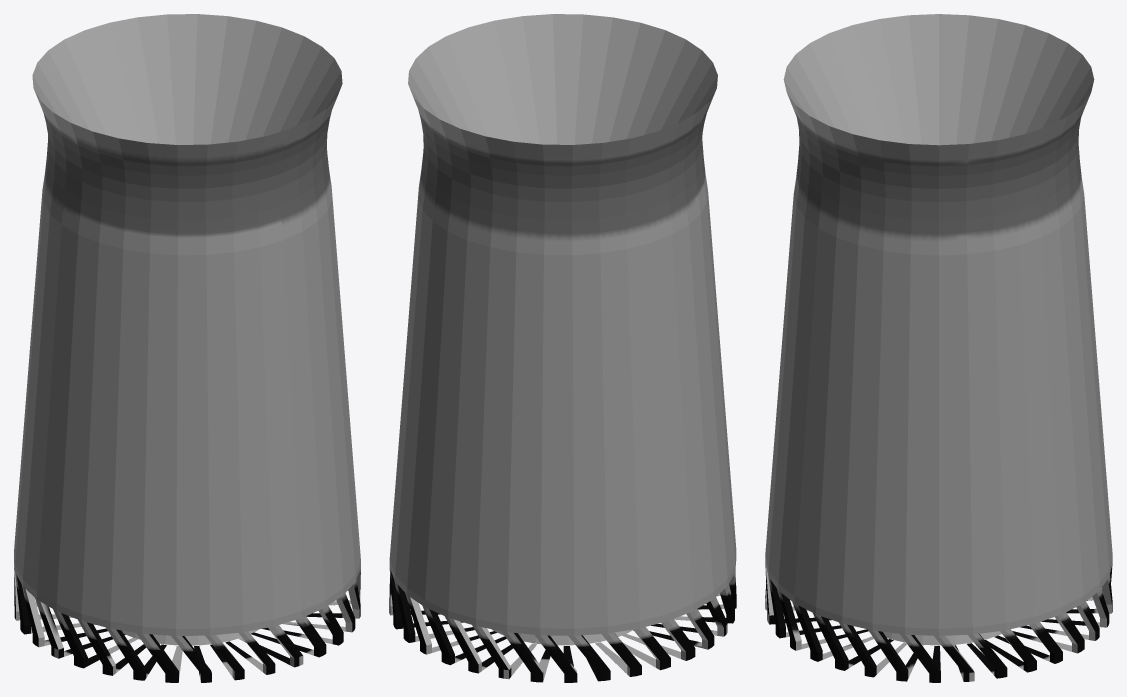
Rendered from chimney.fbx.
3 renders of one model, left to right at view 1: azimuth 30°, elevation 25°; view 2: azimuth 150°, elevation 25°; view 3: azimuth 270°, elevation 25°, orthographic.
Visible parts, largest first — view 1: Cylinder; view 2: Cylinder; view 3: Cylinder.
Boxes of the visible parts, left/top/right/bottom form: Cylinder: left=14, top=14, right=360, bottom=682; Cylinder: left=389, top=14, right=736, bottom=682; Cylinder: left=765, top=14, right=1112, bottom=682.
Size of the model in its own units: 3.49 by 5.88 by 3.49.
Materials: 1 (1 with a texture image).
